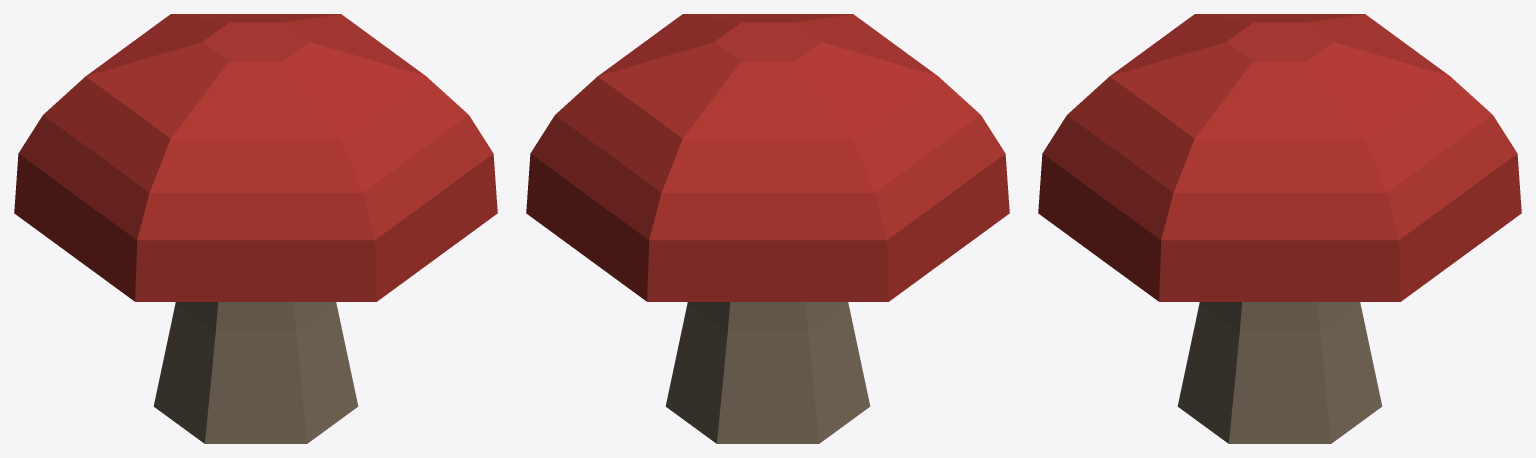
The model's file is Cogumelo 2.fbx.
3 renders of one model, left to right at view 1: azimuth 30°, elevation 25°; view 2: azimuth 150°, elevation 25°; view 3: azimuth 270°, elevation 25°, orthographic.
Visible parts, largest first — view 1: Cogumelo 3; view 2: Cogumelo 3; view 3: Cogumelo 3.
Boxes of the visible parts, left/top/right/bottom form: Cogumelo 3: left=14, top=14, right=497, bottom=443; Cogumelo 3: left=526, top=14, right=1009, bottom=443; Cogumelo 3: left=1038, top=14, right=1521, bottom=443.
Size of the model in its own units: 337 by 323 by 389.
